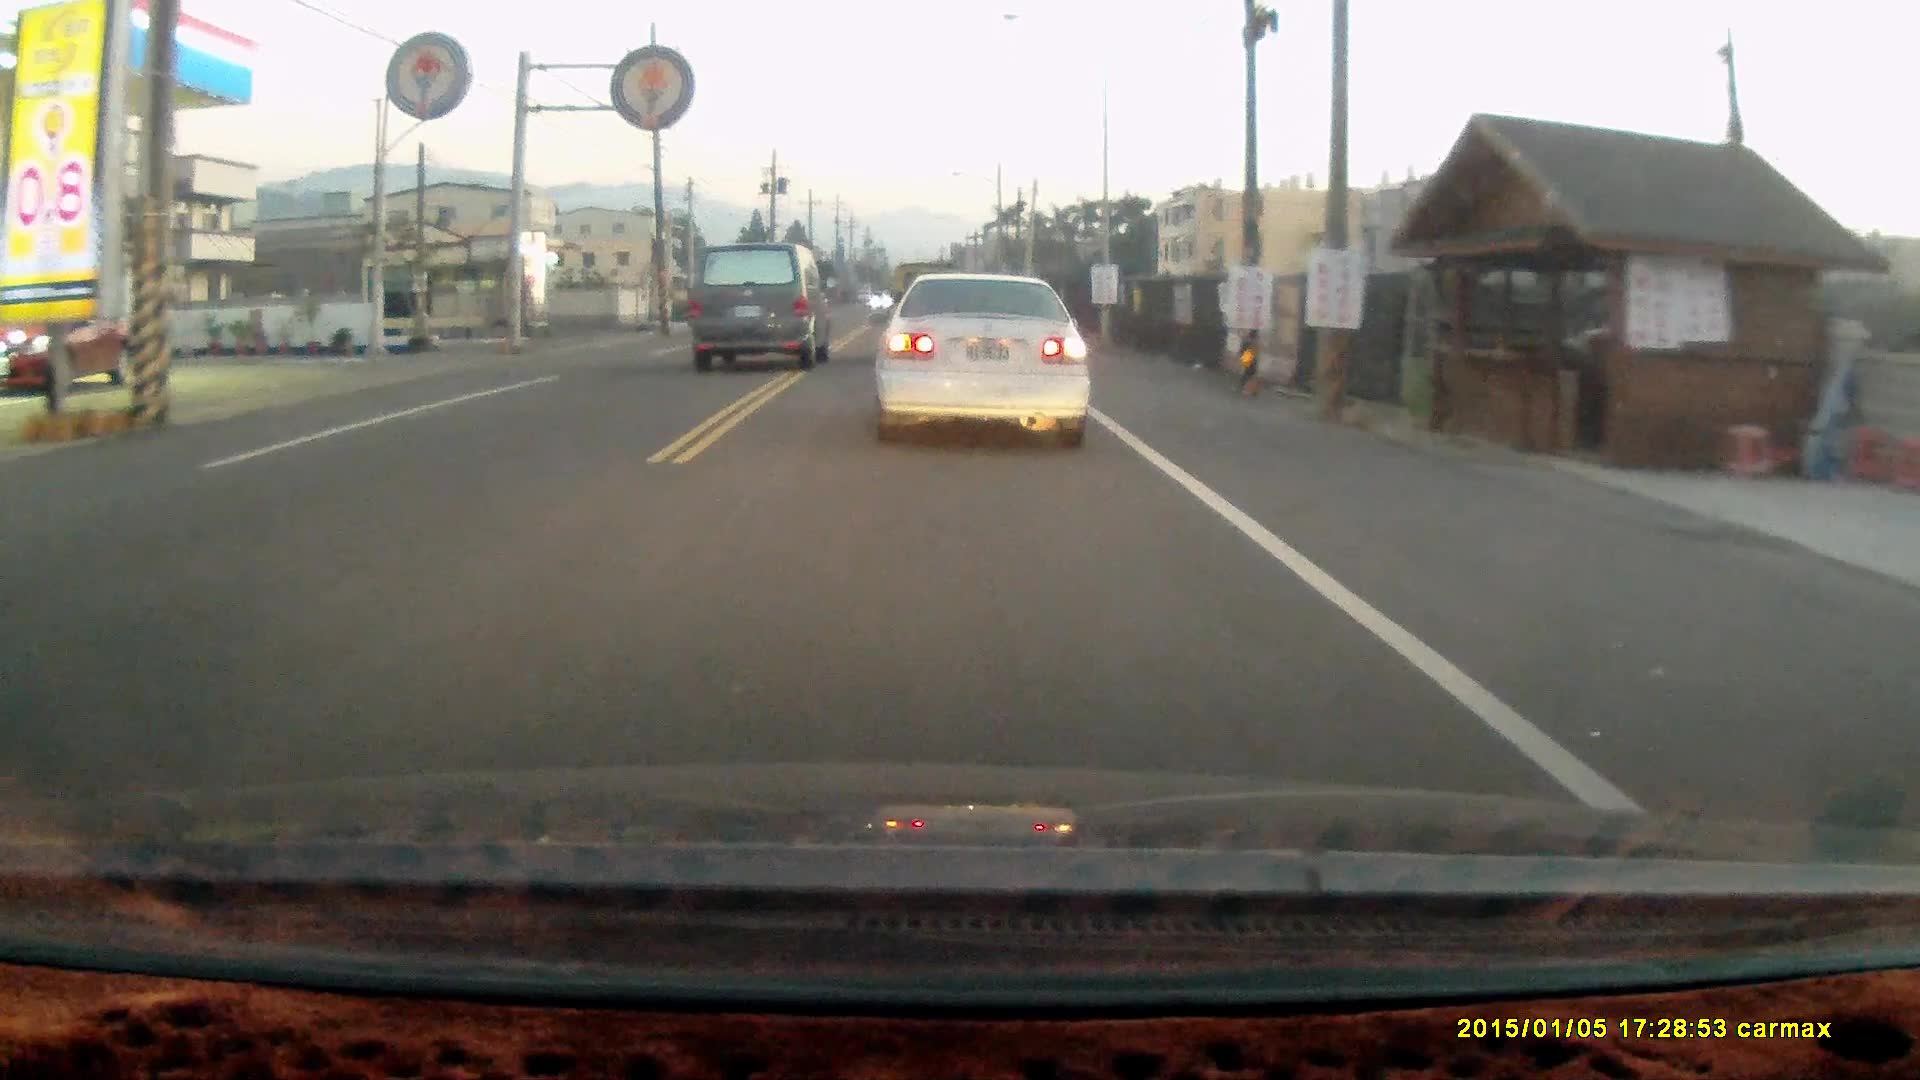vehicle: (868, 268, 1095, 455), (686, 243, 836, 375), (7, 294, 145, 396)
